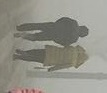person: (13, 15, 89, 45), (13, 44, 89, 73)
